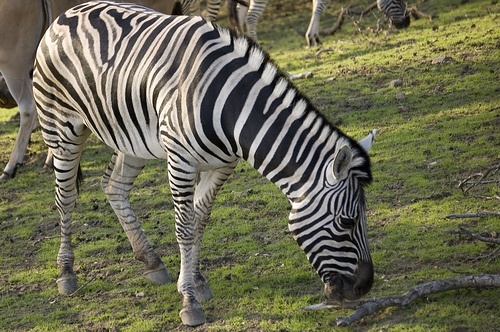zebra: (33, 0, 376, 325)
